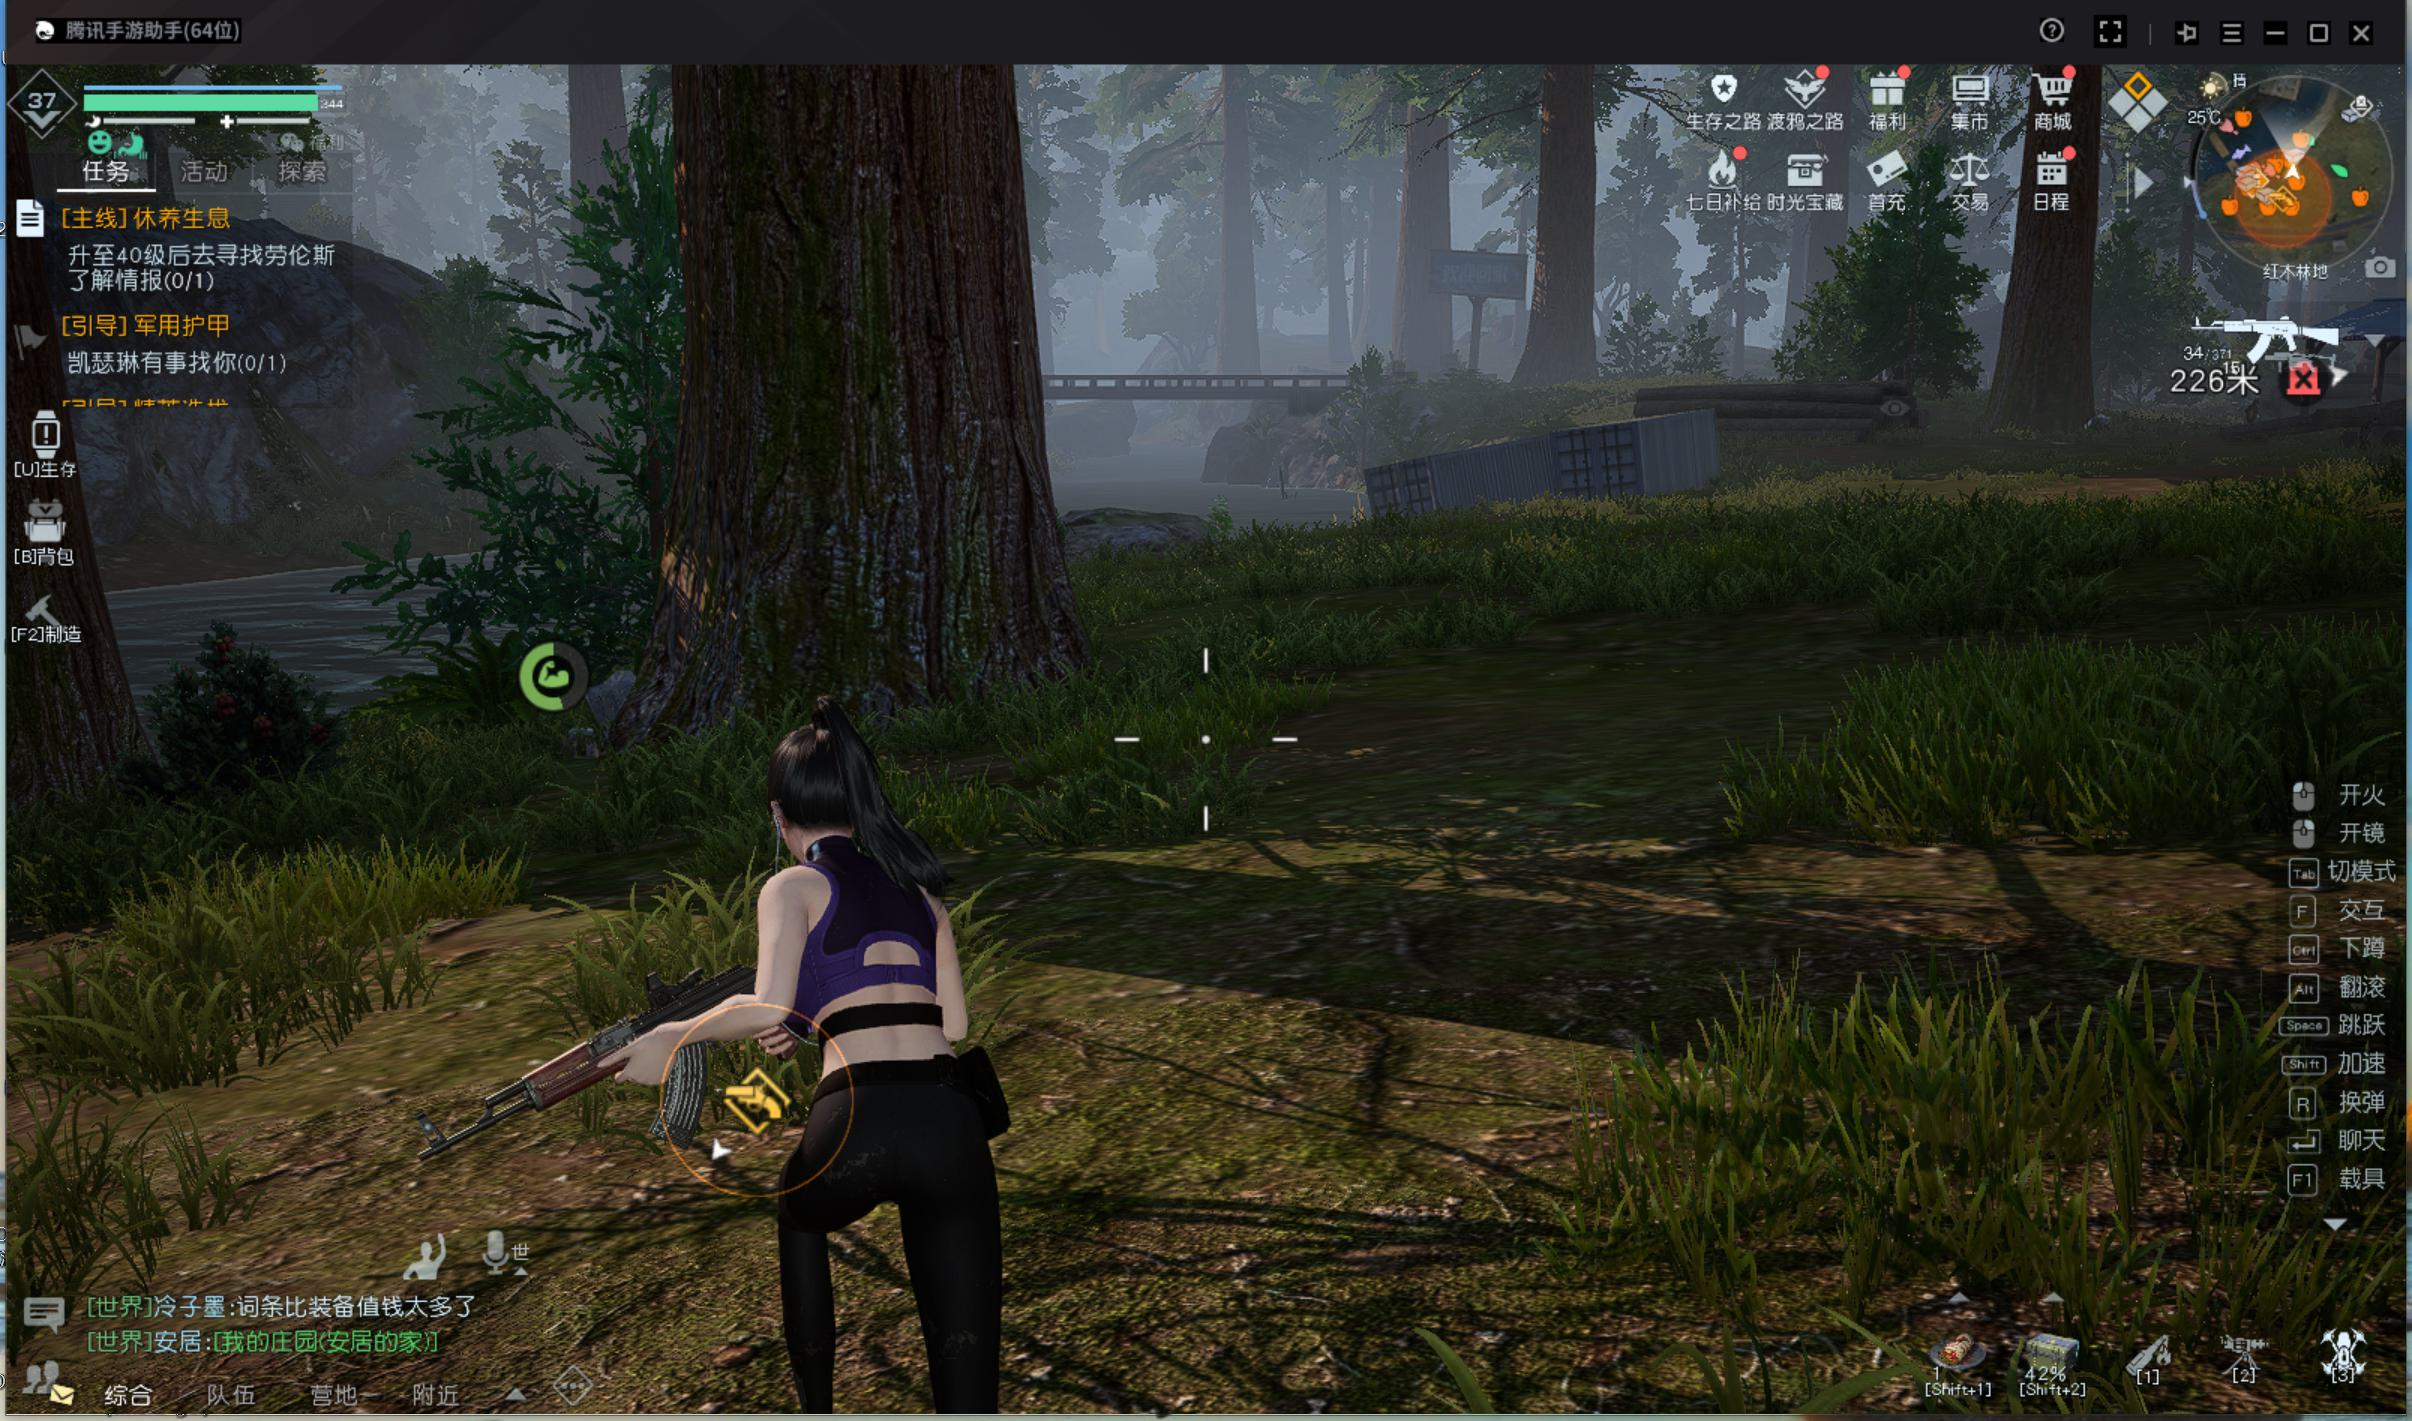tree: (638, 108, 1096, 705), (2013, 147, 2104, 448), (1380, 112, 1475, 386), (1507, 127, 1603, 394)
